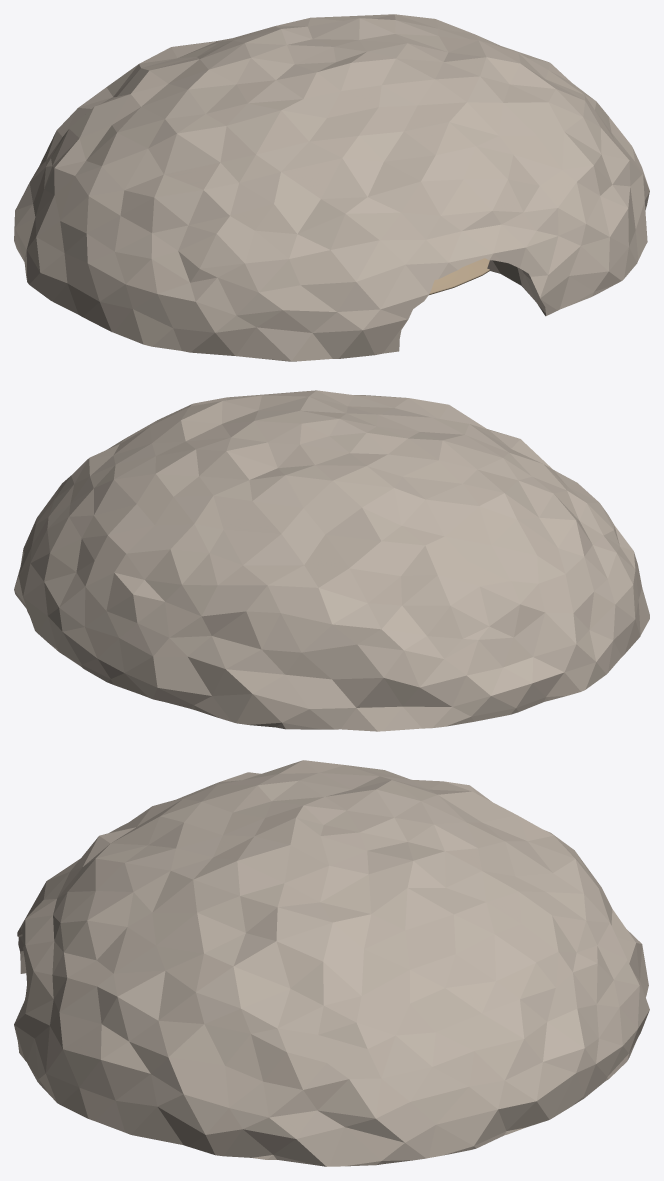
The model's file is cueva.glb.
The picture shows the model from 3 angles, top to bottom: view 1: azimuth 30°, elevation 25°; view 2: azimuth 150°, elevation 25°; view 3: azimuth 270°, elevation 25°; orthographic projection. The views are drawn at different scales.
Visible parts, largest first — view 1: cueva; view 2: cueva; view 3: cueva.
Boxes of the visible parts, box(x1,y1,x2,y2) form: cueva: box(14, 14, 649, 361); cueva: box(14, 390, 649, 731); cueva: box(14, 760, 649, 1166).
Bounding box in the file's own units: 19.1 × 5.86 × 16.78.
